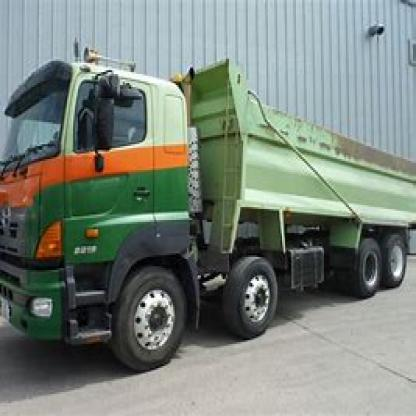dump_truck: (7, 37, 414, 375)
